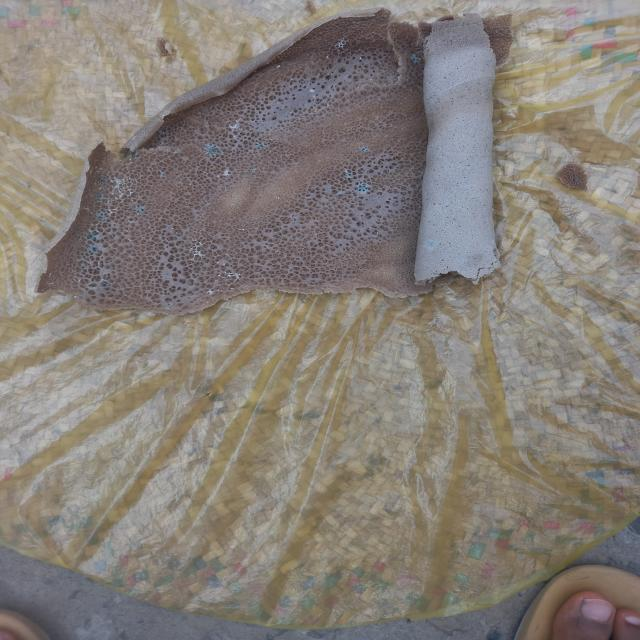injera_mold: (108, 176, 134, 202), (187, 240, 206, 262), (224, 117, 244, 136), (217, 270, 243, 282), (203, 143, 224, 156), (335, 36, 349, 53), (357, 183, 370, 194), (342, 167, 353, 178), (122, 154, 140, 160), (133, 205, 146, 213), (411, 53, 422, 62), (86, 232, 98, 240), (95, 212, 107, 220), (100, 280, 111, 288), (87, 246, 98, 253), (99, 176, 108, 184), (106, 207, 116, 213), (360, 146, 370, 152), (426, 241, 436, 247), (96, 193, 104, 200), (223, 169, 230, 177), (257, 142, 265, 148), (206, 290, 215, 295), (159, 170, 164, 177), (46, 282, 54, 286), (89, 286, 97, 290), (273, 196, 281, 200), (239, 228, 245, 232), (336, 192, 343, 195), (251, 168, 256, 172), (310, 89, 314, 92), (312, 95, 316, 98), (217, 175, 220, 178), (359, 57, 362, 60), (277, 65, 281, 67), (326, 56, 329, 58)
